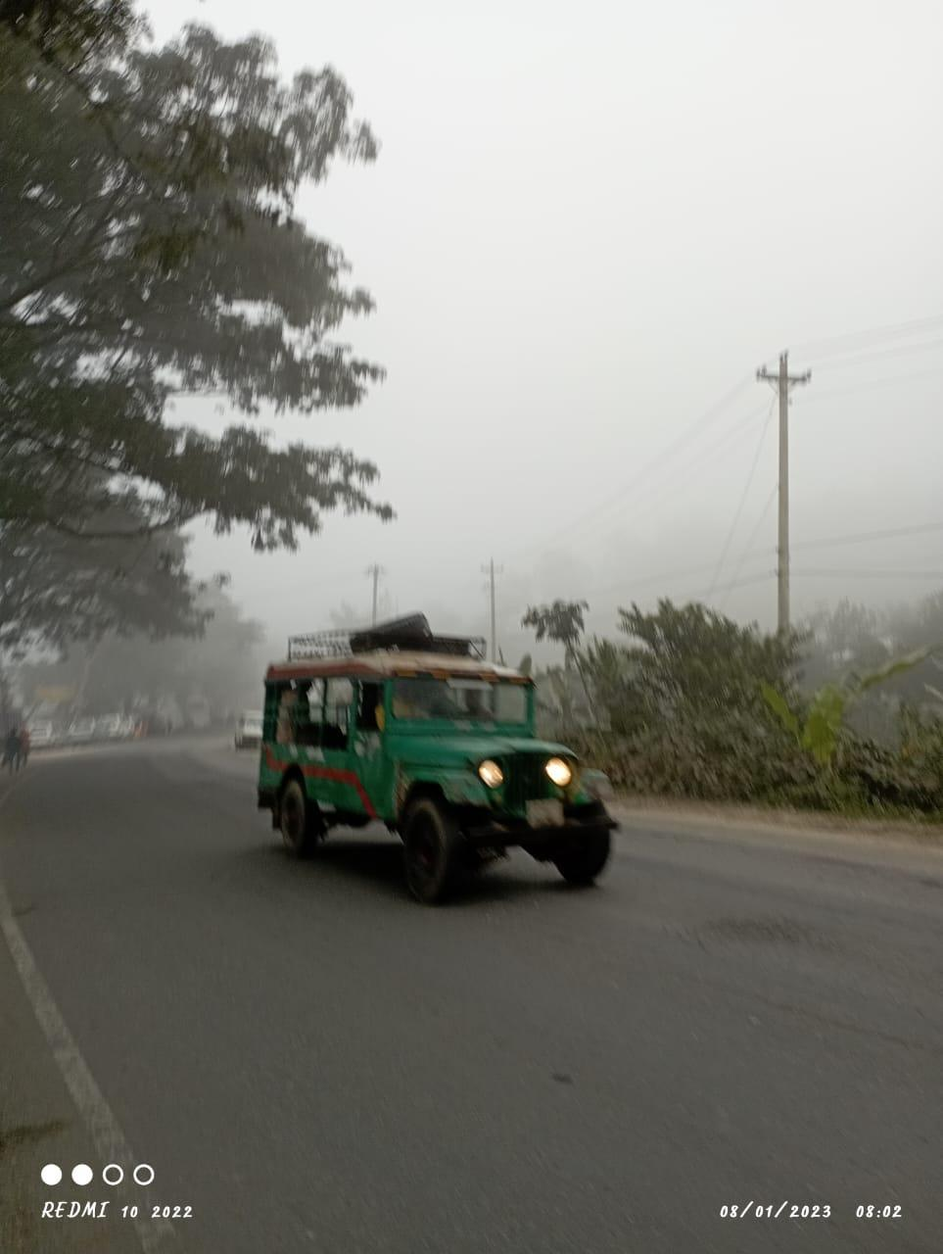Car: (213, 607, 627, 904)
